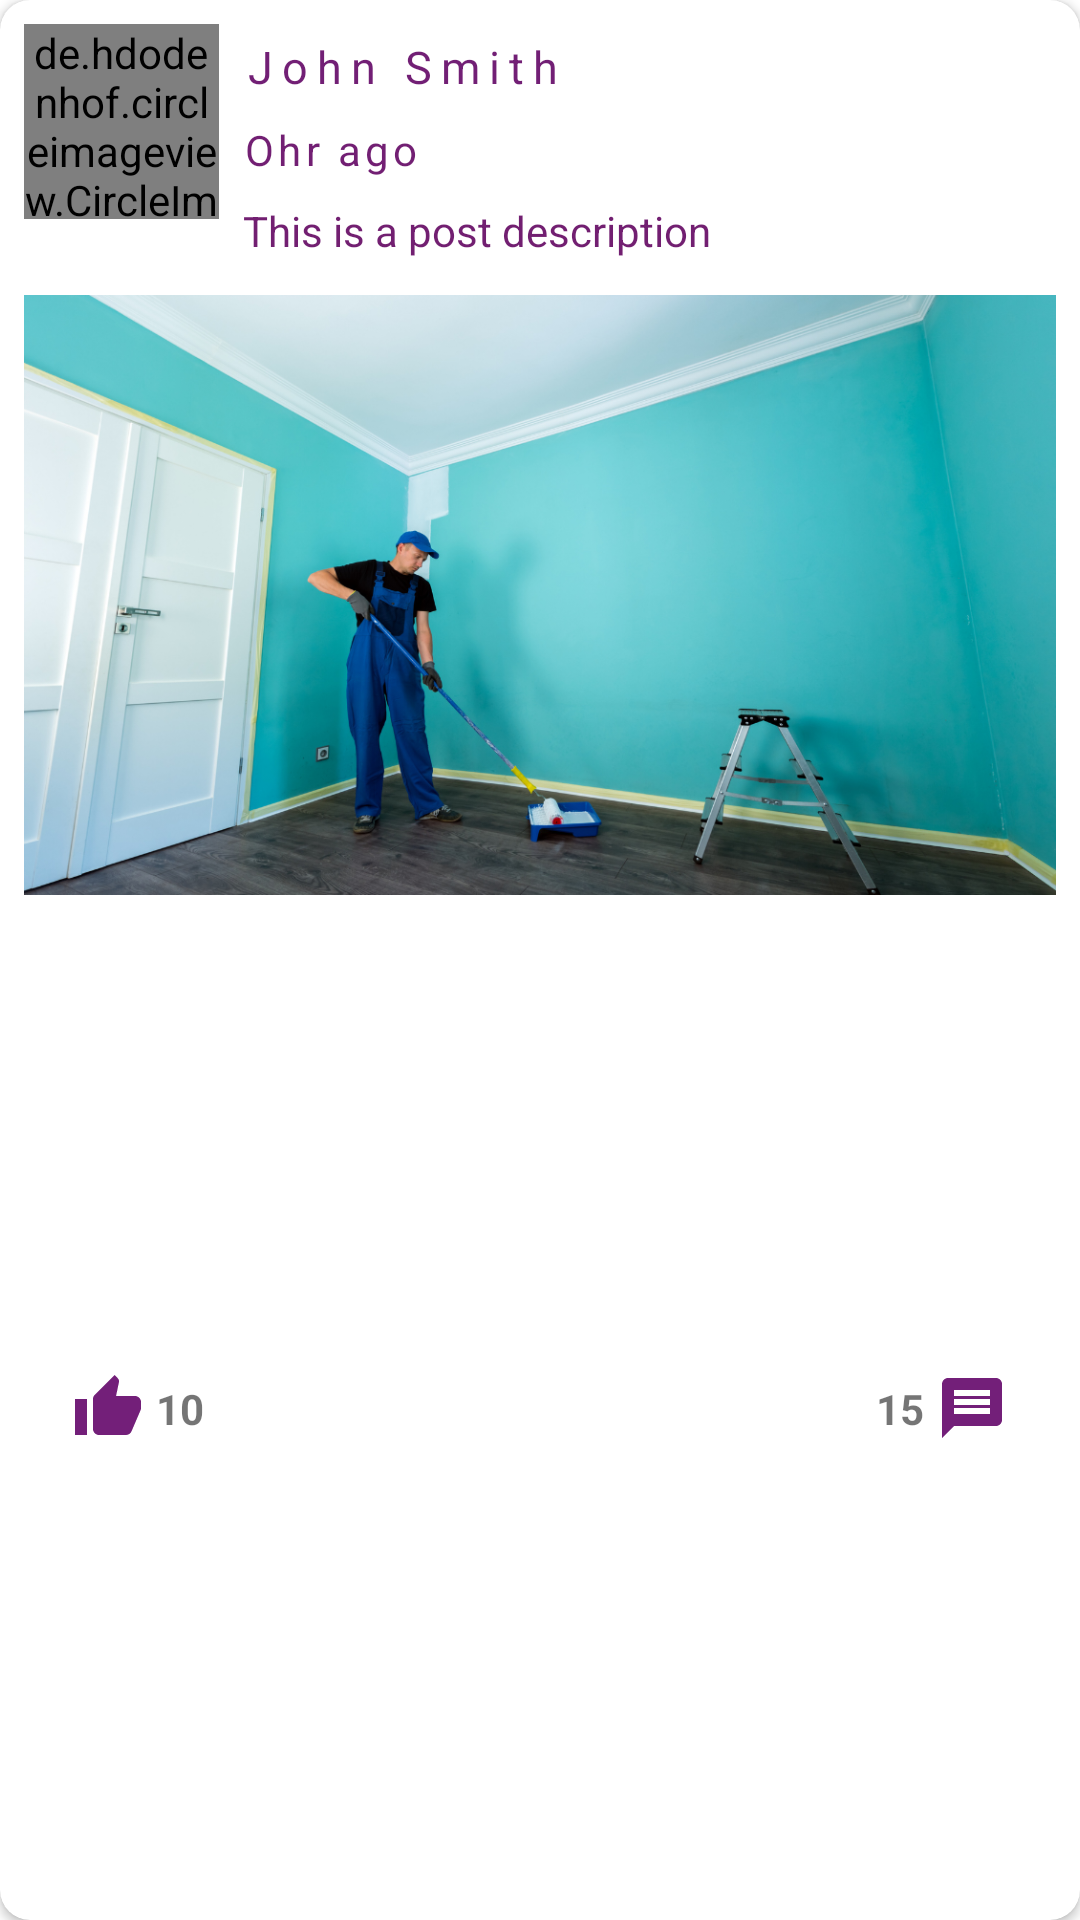

Point at icon controls on the screen. Image size 1080px x 1920px, points as point (x, y).
comments: point (972, 1408)
like: point (108, 1405)
